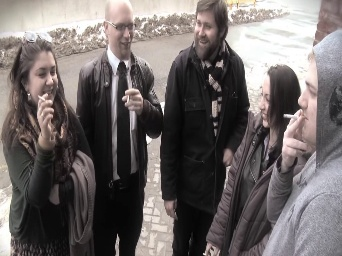smoke: (281, 112, 302, 119), (35, 93, 48, 104)
